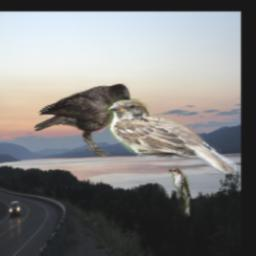Crow: (35, 82, 136, 157)
Cuckoo: (169, 167, 191, 221)
Sparrow: (106, 99, 236, 175)
